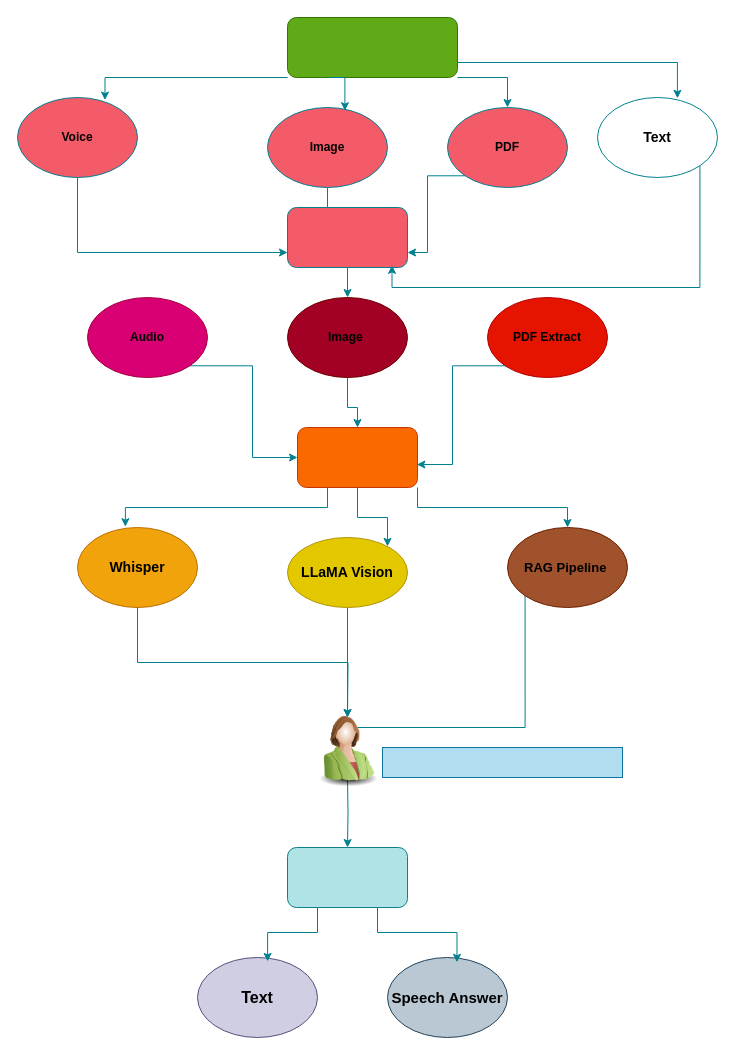
The diagram is 735 pixels wide and 1055 high, and some of its shapes have lost their labels. The box of each missing label's shape, as (x1, y1, x2, y2) in pixels:
COORDINATOR LLM (LLaMA): (382, 746, 622, 778)
OUTPUT LAYER: (286, 846, 408, 908)
PREPROCESSING LAYER: (286, 206, 408, 268)
PROCESSING PIPELINES: (296, 426, 418, 488)
USER INPUT LAYER: (286, 16, 458, 78)
